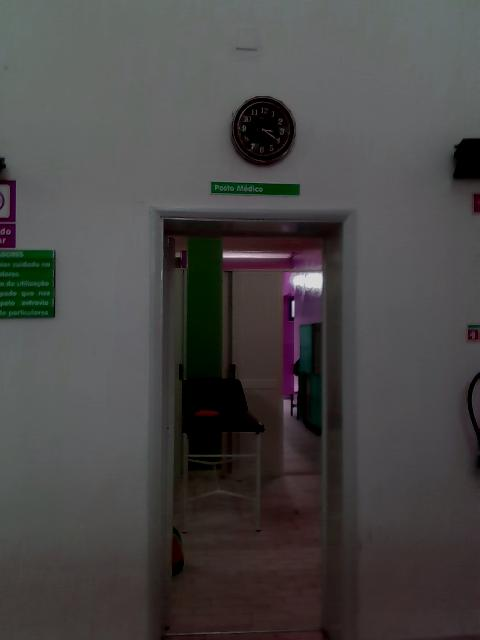open_door: (147, 205, 355, 639)
